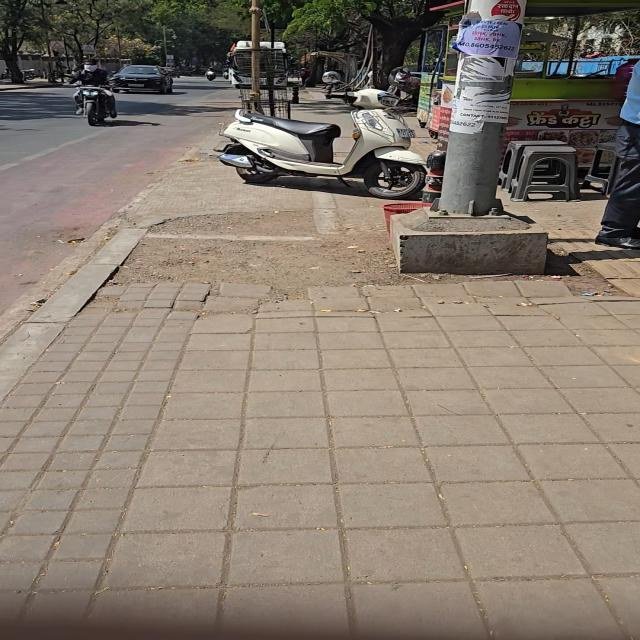obstacle: (433, 0, 526, 215), (250, 0, 263, 112), (567, 17, 581, 77), (371, 29, 379, 87), (117, 27, 122, 66), (163, 27, 167, 66)
pothole: (109, 208, 401, 283)
vehical: (219, 110, 425, 198)
